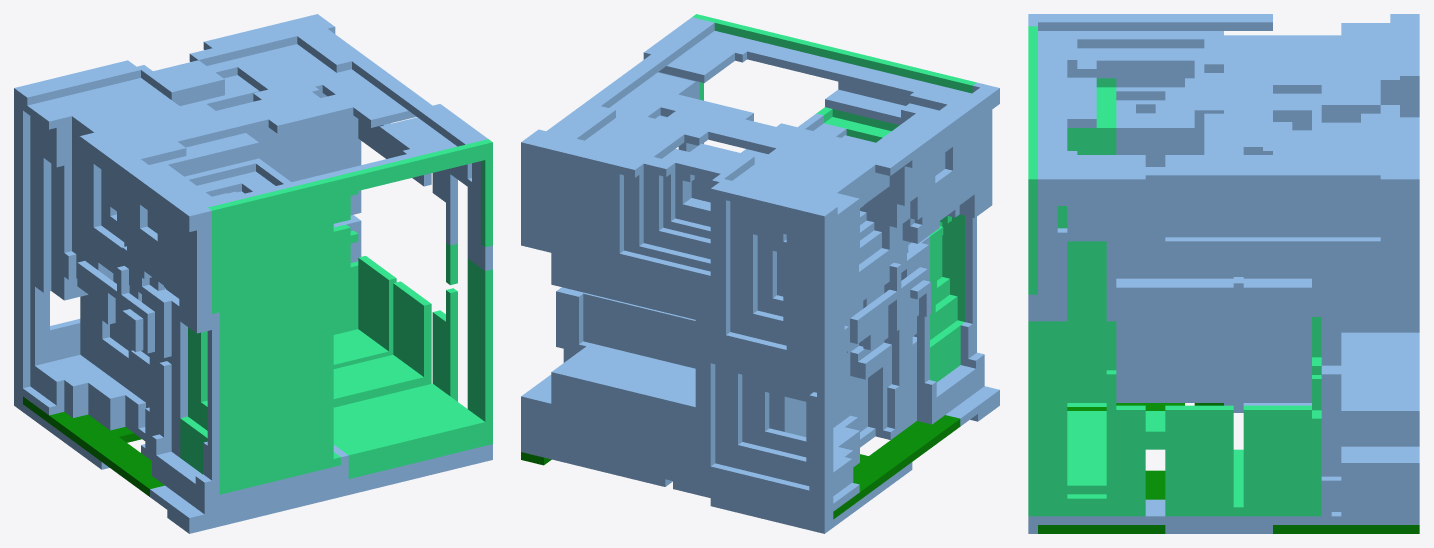
File: cubemix3.glb
3 views of the same model, side by side, from view 1: azimuth 30°, elevation 25°; view 2: azimuth 150°, elevation 25°; view 3: azimuth 270°, elevation 25° (orthographic). The views are drawn at different scales.
Visible parts, largest first — view 1: Asset3DLoader.sceneRoot; view 2: Asset3DLoader.sceneRoot; view 3: Asset3DLoader.sceneRoot.
Part boxes in pixels (left/top/right/bottom): Asset3DLoader.sceneRoot: left=14, top=14, right=492, bottom=533; Asset3DLoader.sceneRoot: left=521, top=14, right=999, bottom=533; Asset3DLoader.sceneRoot: left=1028, top=14, right=1419, bottom=533.
Bounding box in the file's own units: 4 × 4 × 4.
Materials: 1 (1 with a texture image).
